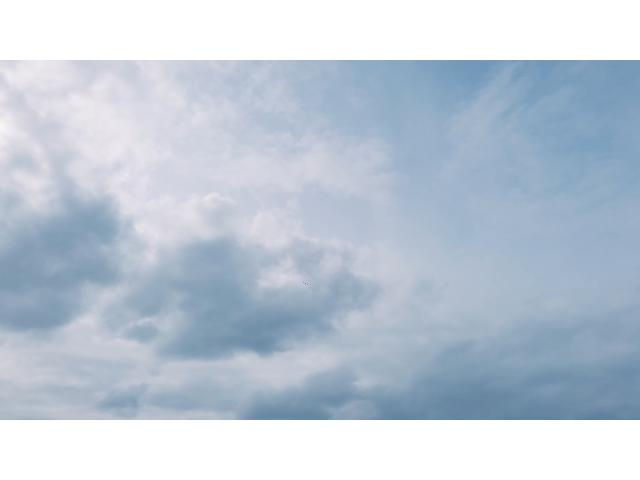Anti-Drone: (300, 280, 312, 289)
